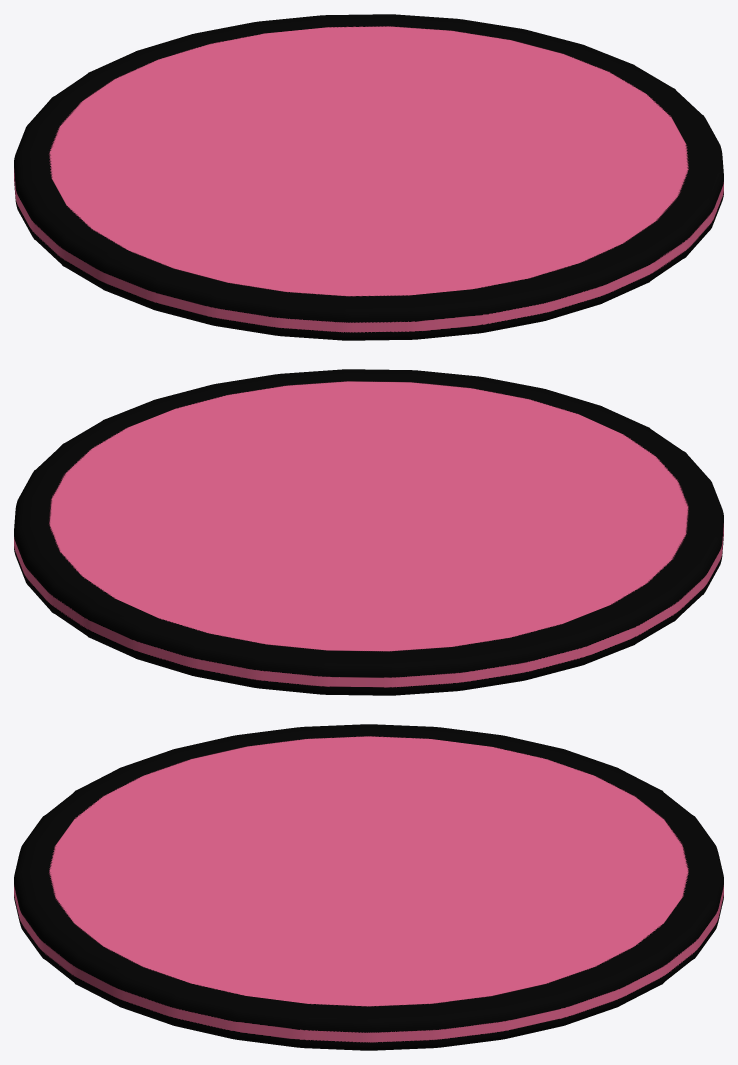
Rendered from Player2TileModel.fbx.
3 renders of one model, top to bottom at view 1: azimuth 30°, elevation 25°; view 2: azimuth 150°, elevation 25°; view 3: azimuth 270°, elevation 25°, orthographic.
Parts seen in each view (by area): view 1: O-Tile; view 2: O-Tile; view 3: O-Tile.
Part boxes in pixels (x1=…): O-Tile: x1=14, y1=14, x2=723, y2=340; O-Tile: x1=14, y1=369, x2=723, y2=695; O-Tile: x1=14, y1=724, x2=723, y2=1050.
Bounding box in the file's own units: 200 × 10 × 200.
Materials: 1 (1 with a texture image).
